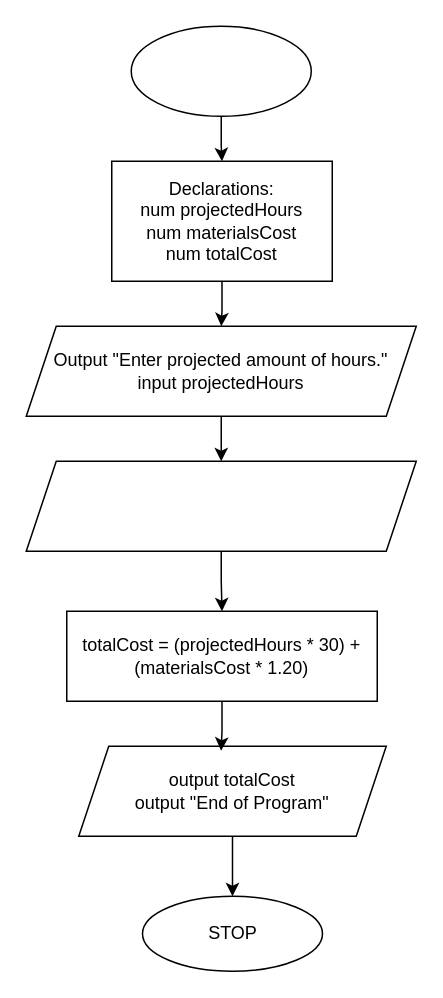
Some shapes in this 443 by 998 pixel diagram are drawn without their labels. Here are the shapes that lost their labels. From the top down, the box of each, then its label:
(130, 25, 311, 116): START
(25, 460, 416, 551): Output "Enter wholesale materials price." input materialsCost
